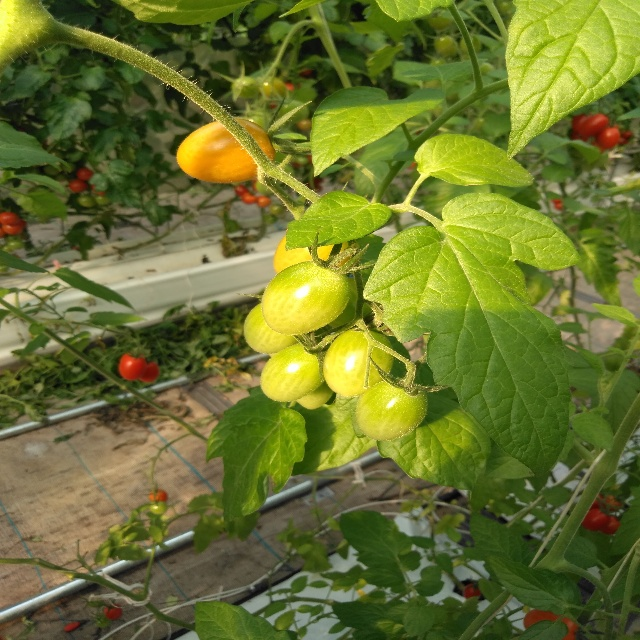l_fully_ripened: (119, 356, 148, 381), (138, 361, 159, 383)
l_green: (262, 260, 351, 336), (322, 327, 393, 398), (356, 378, 427, 442), (259, 341, 329, 403), (244, 301, 305, 355), (296, 382, 334, 410)
l_half_ripened: (177, 118, 275, 184), (274, 223, 352, 273)
